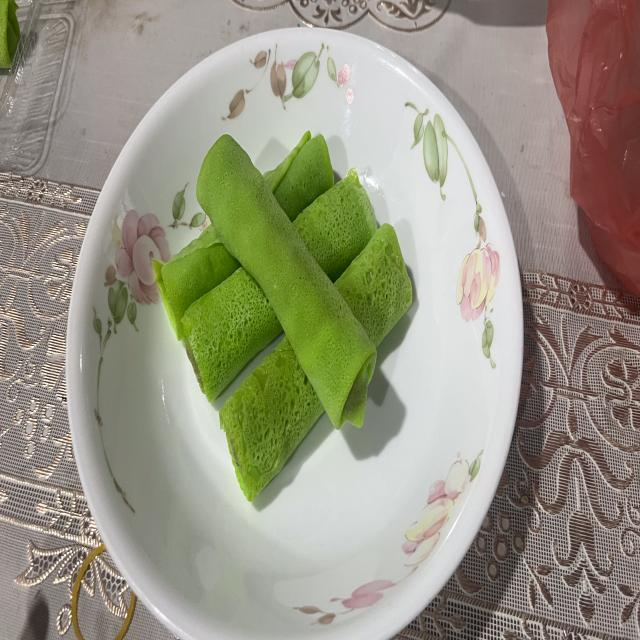Kuih-Ketayap: (196, 136, 376, 429), (220, 338, 324, 500), (181, 267, 282, 402), (152, 224, 240, 340), (294, 169, 378, 282), (336, 224, 412, 347), (264, 131, 334, 222)
